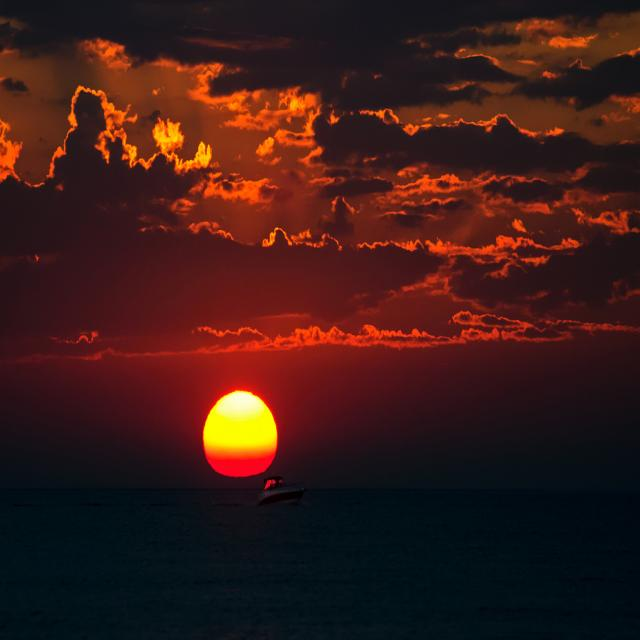no_fire: (11, 82, 624, 502)
